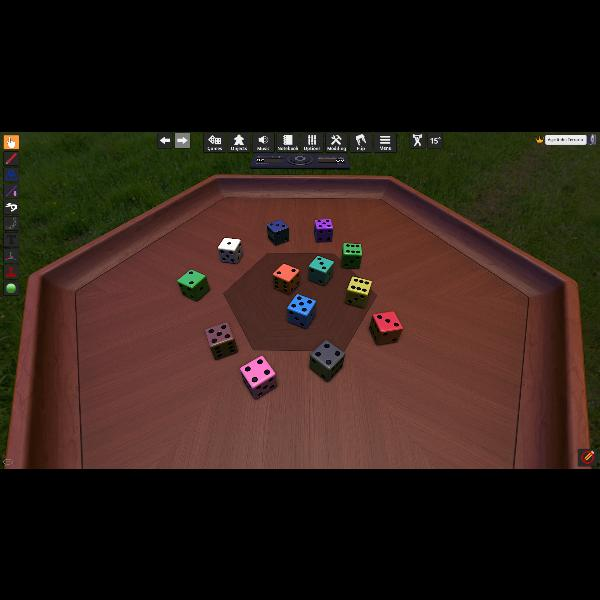d6: (240, 354, 276, 398), (309, 340, 345, 382), (205, 322, 235, 360), (177, 269, 209, 301), (370, 311, 401, 344), (286, 294, 316, 328), (271, 263, 299, 295), (346, 275, 372, 307), (308, 255, 334, 286), (217, 236, 241, 264), (267, 219, 289, 245), (342, 243, 362, 269), (314, 218, 334, 242)
